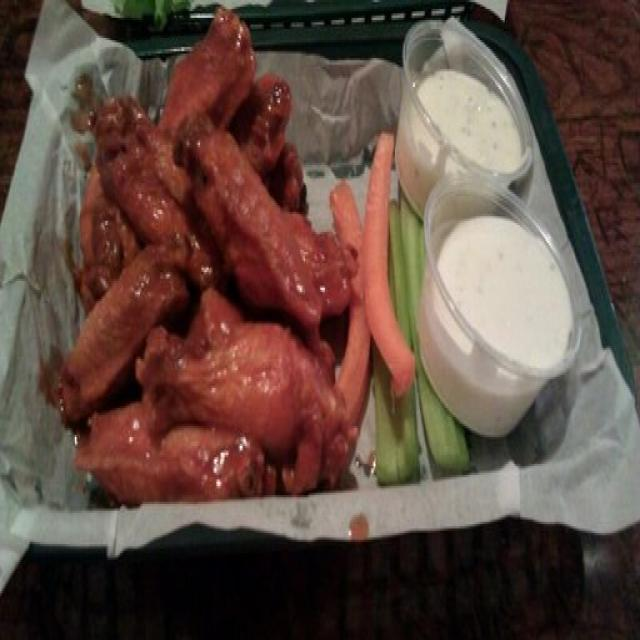Frango: (186, 122, 347, 338), (140, 325, 315, 466)
